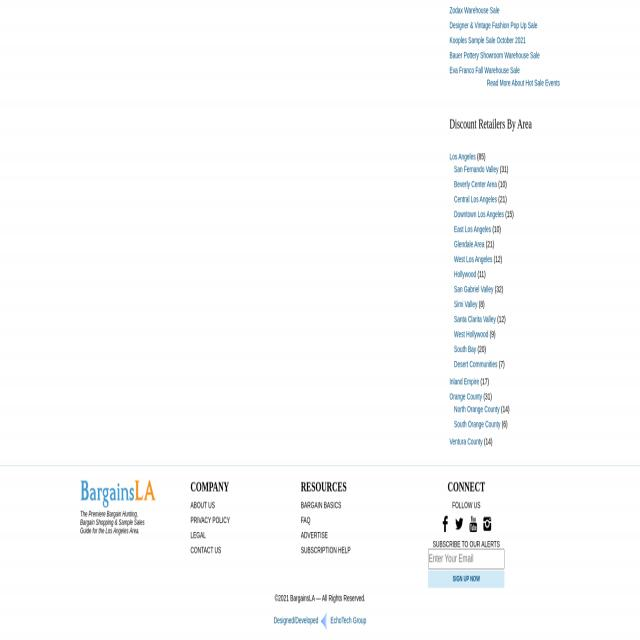button: (80, 479, 157, 508), (428, 570, 504, 588), (439, 514, 452, 532), (453, 514, 465, 532), (467, 514, 479, 532), (481, 515, 493, 532), (320, 612, 329, 629)
field: (428, 549, 504, 569)
